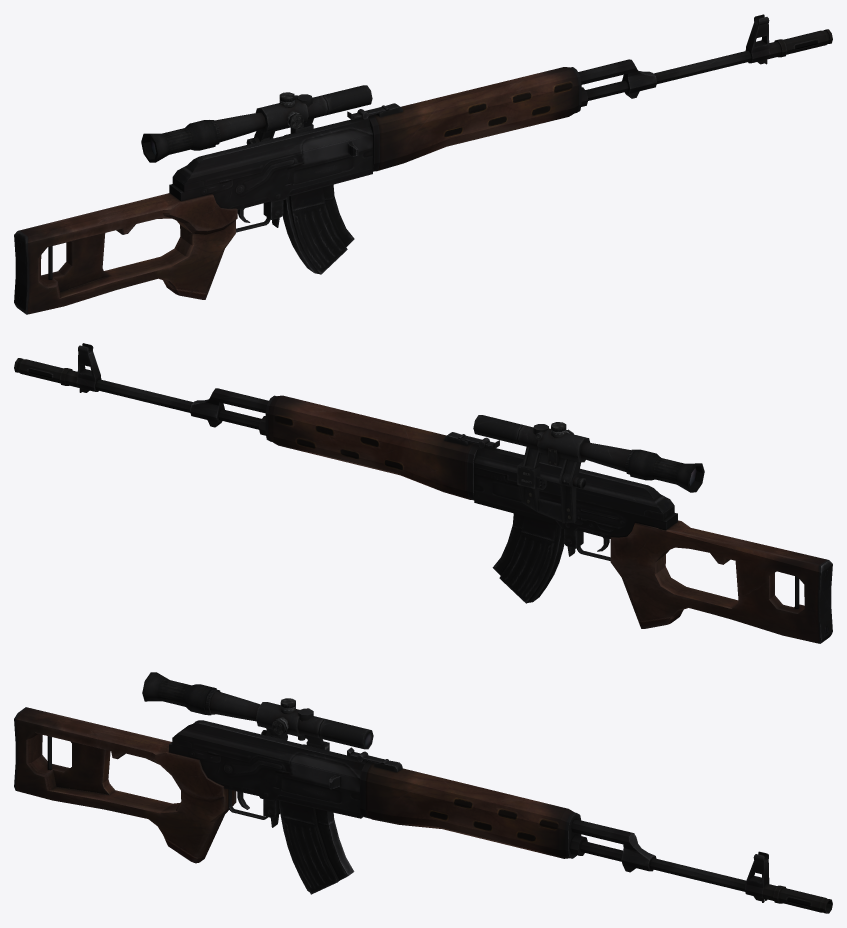
File: SVD.FBX
3 renders of one model, top to bottom at view 1: azimuth 30°, elevation 25°; view 2: azimuth 150°, elevation 25°; view 3: azimuth 330°, elevation 25°, orthographic.
Parts seen in each view (by area): view 1: SVD, OPTICS, MAG; view 2: SVD, OPTICS, MAG; view 3: SVD, OPTICS, MAG.
Part boxes in pixels (<box>): SVD: <box>14,14,832,314</box>; OPTICS: <box>141,85,372,162</box>; MAG: <box>282,184,354,274</box>; SVD: <box>14,343,832,643</box>; OPTICS: <box>473,415,704,523</box>; MAG: <box>492,513,564,603</box>; SVD: <box>14,707,832,913</box>; OPTICS: <box>142,672,373,750</box>; MAG: <box>279,800,354,894</box>.
Bounding box in the file's own units: 1253 × 270 × 66.25.
